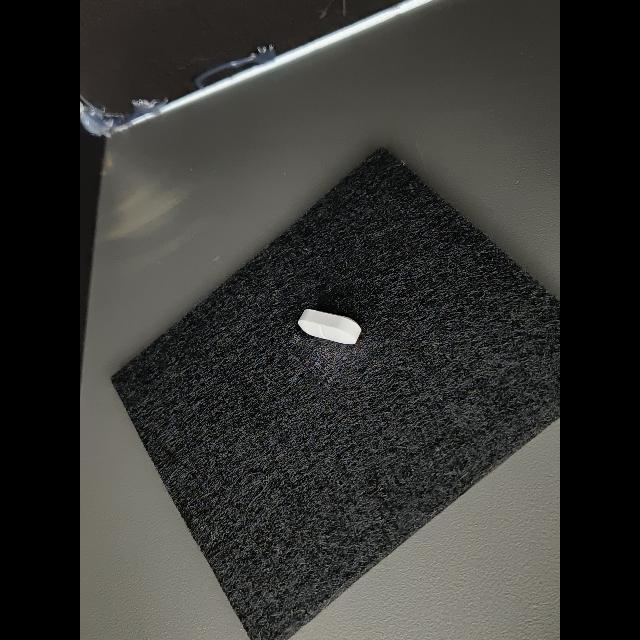Intact Pill: (298, 309, 361, 344)
